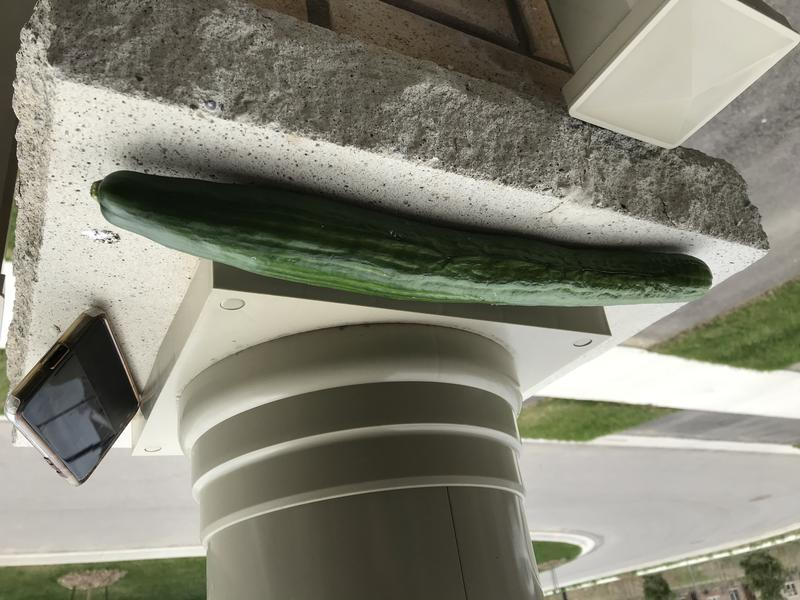cucumber: (73, 157, 723, 323)
